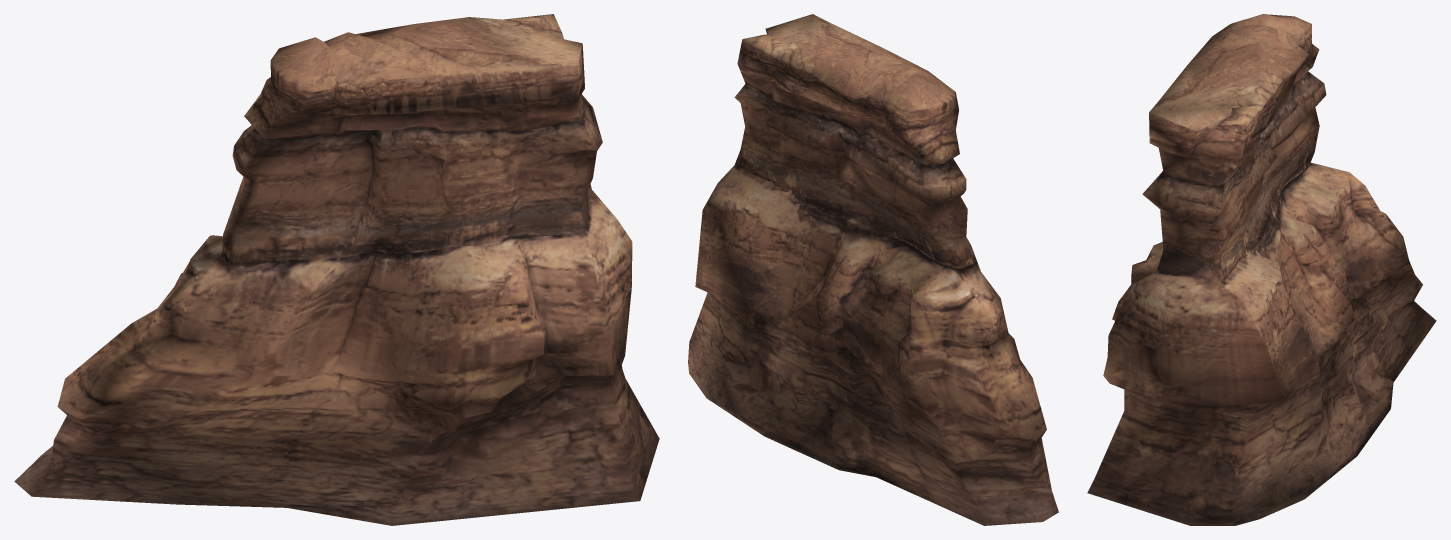
Rendered from Mesh_Cliff_Fin_01_Slope_AO.fbx.
3 renders of one model, left to right at view 1: azimuth 30°, elevation 25°; view 2: azimuth 150°, elevation 25°; view 3: azimuth 270°, elevation 25°, orthographic. The views are drawn at different scales.
Visible parts, largest first — view 1: Mesh_Cliff_Fin_01_Slope_AO; view 2: Mesh_Cliff_Fin_01_Slope_AO; view 3: Mesh_Cliff_Fin_01_Slope_AO.
Boxes of the visible parts, <box> form: Mesh_Cliff_Fin_01_Slope_AO: <box>14,14,659,525</box>; Mesh_Cliff_Fin_01_Slope_AO: <box>688,14,1058,525</box>; Mesh_Cliff_Fin_01_Slope_AO: <box>1087,14,1436,525</box>.
Size of the model in its own units: 5950 by 4714 by 3848.
